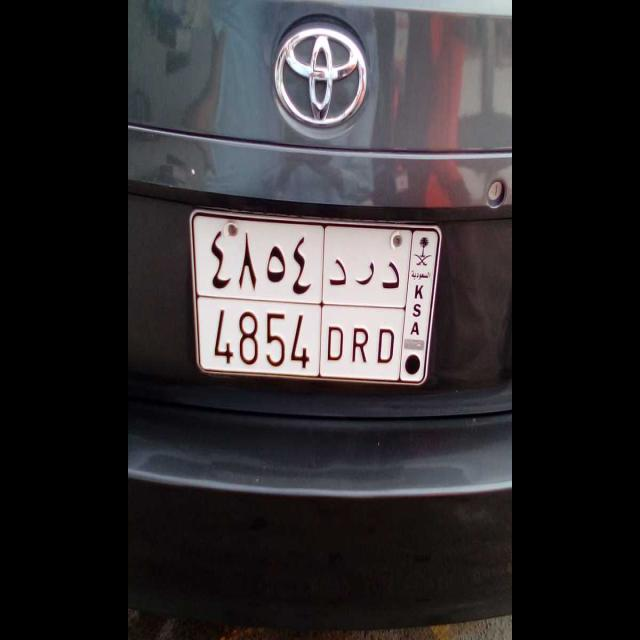license_plate: (196, 298, 400, 380)
